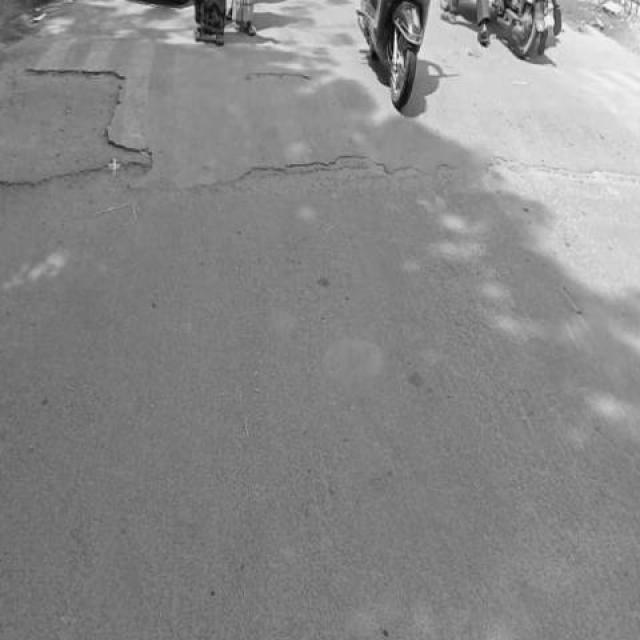Pothole: (12, 54, 170, 188), (194, 157, 446, 186), (234, 64, 319, 93)
Speed Bump: (1, 32, 368, 192), (418, 38, 638, 170)
